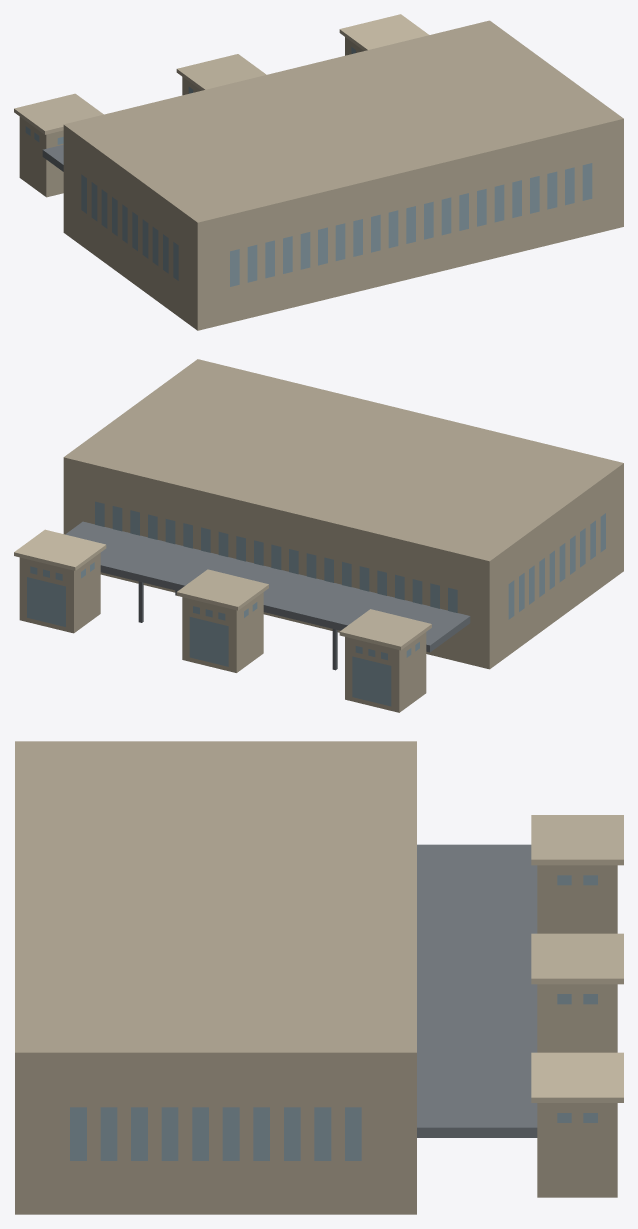
3 views of the same model, one above another, from view 1: azimuth 30°, elevation 25°; view 2: azimuth 150°, elevation 25°; view 3: azimuth 270°, elevation 25° (orthographic). The views are drawn at different scales.
Visible parts, largest first — view 1: staten-island-ferry-lod2; view 2: staten-island-ferry-lod2; view 3: staten-island-ferry-lod2.
Part boxes in pixels (<box>): staten-island-ferry-lod2: <box>14,14,623,330</box>; staten-island-ferry-lod2: <box>14,359,623,712</box>; staten-island-ferry-lod2: <box>15,741,623,1214</box>.
Bounding box in the file's own units: 116 × 28 × 95.63.
